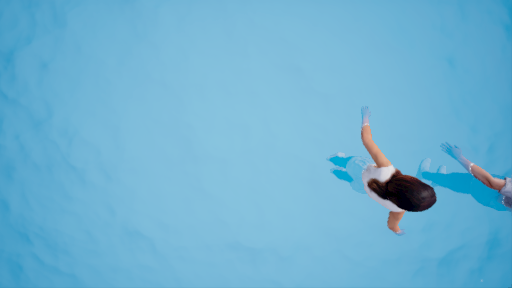person: (328, 106, 430, 236), (412, 137, 512, 213)
